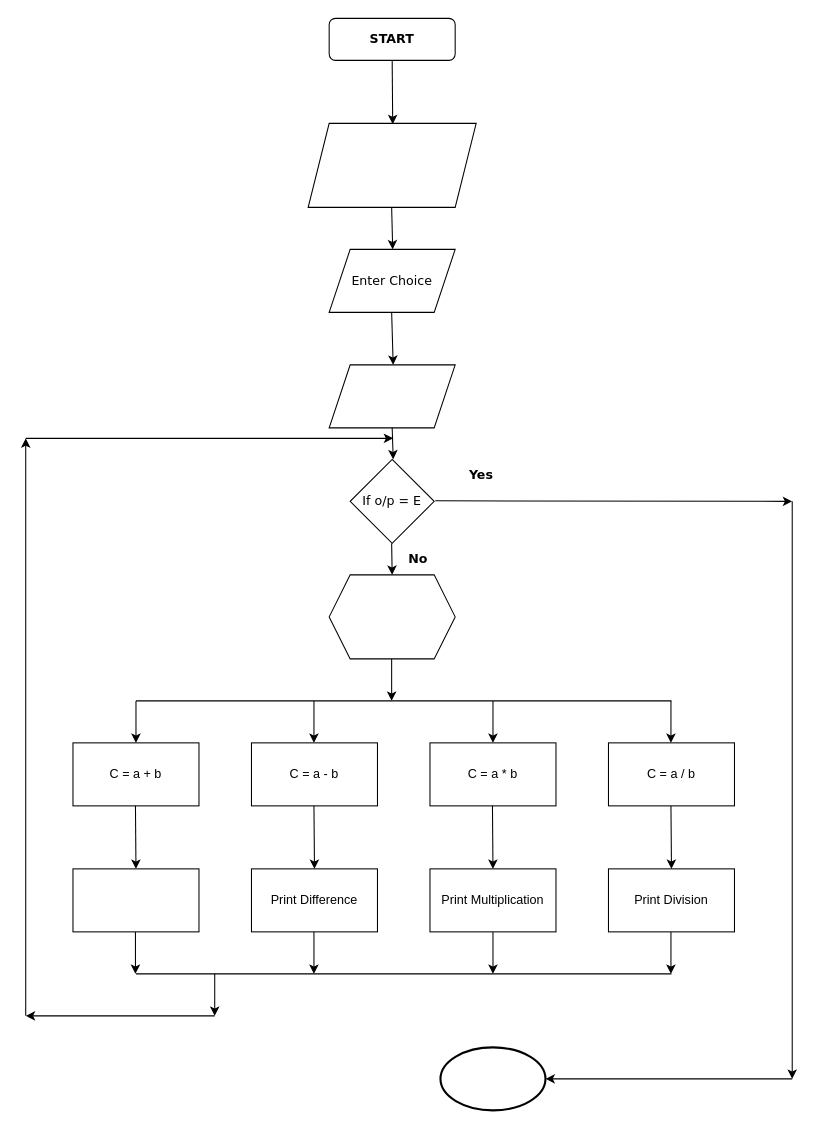
Some shapes in this 819 by 1130 pixel diagram are drawn without their labels. The centre of each missing label's shape, as x and y in pixels:
Input a,b: point (391, 396)
Print Sum: point (135, 900)
SELECT Operation 1. Add 2. Substract 3. Multiply 4. Divide: point (391, 164)
STOP: point (492, 1078)
Switch o/p: point (391, 616)
